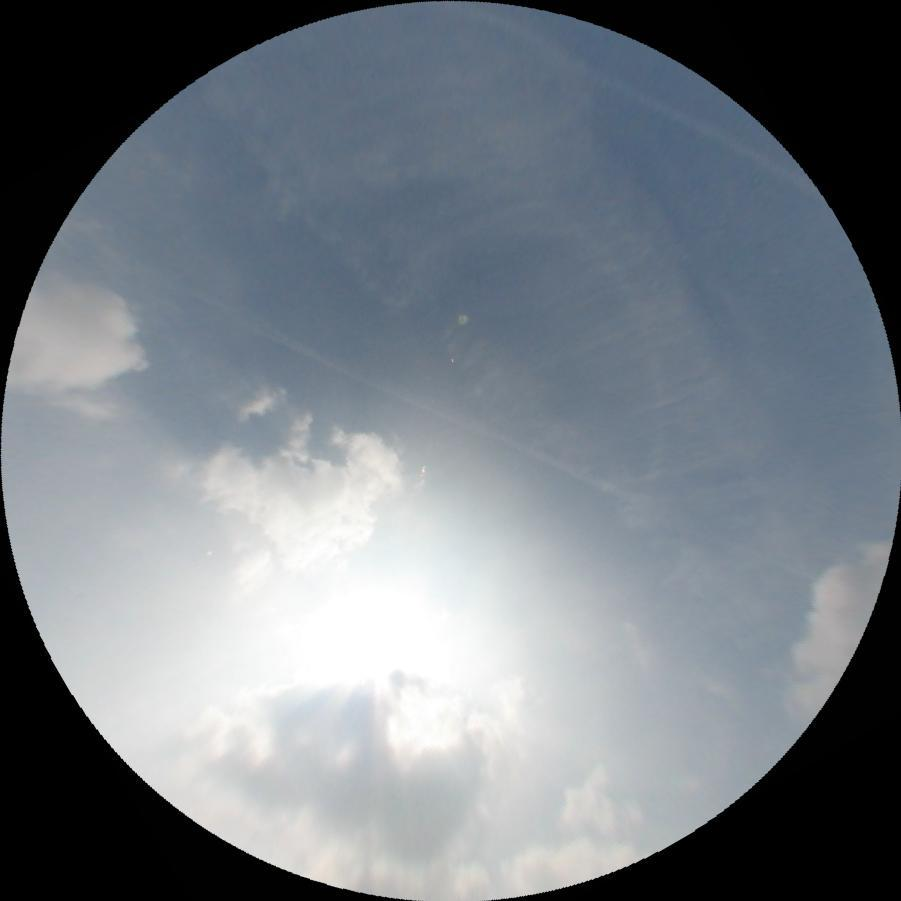contrail old: (204, 303, 644, 509), (455, 0, 829, 200)
sun: (285, 570, 488, 753)
